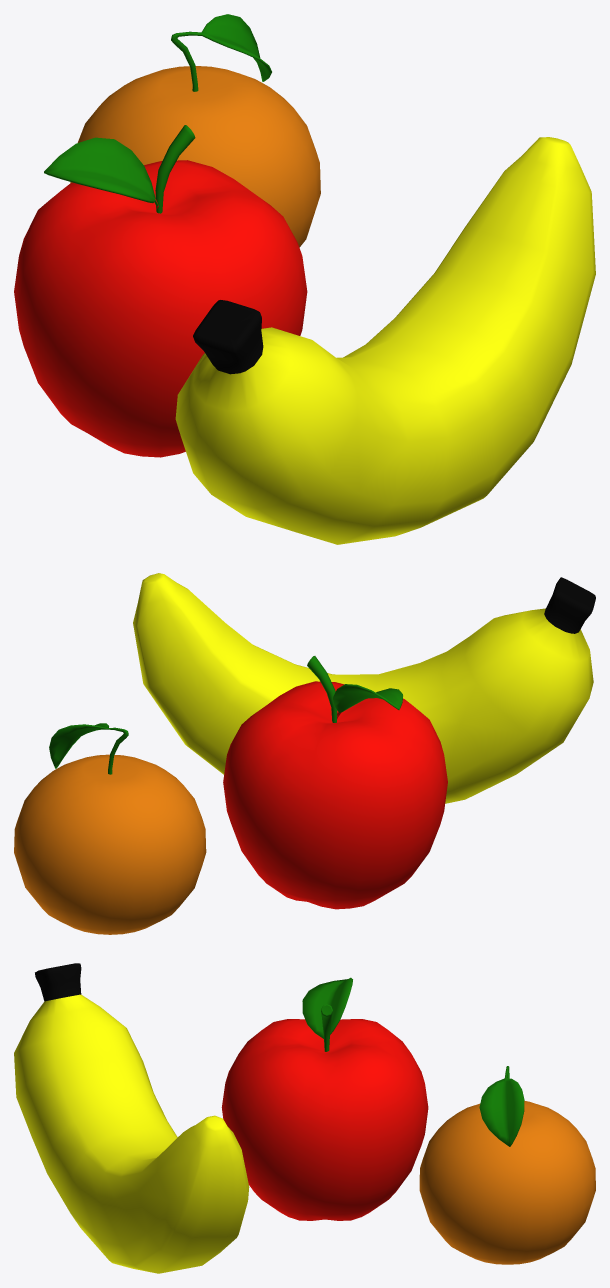
The model's file is fruits.gltf.
3 renders of one model, top to bottom at view 1: azimuth 30°, elevation 25°; view 2: azimuth 150°, elevation 25°; view 3: azimuth 270°, elevation 25°, orthographic. The views are drawn at different scales.
Visible parts, largest first — view 1: Banana, Apple, Orange; view 2: Banana, Apple, Orange; view 3: Banana, Apple, Orange.
Part boxes in pixels (<box>): Banana: <box>175,137,595,544</box>; Apple: <box>14,125,307,457</box>; Orange: <box>70,14,320,247</box>; Banana: <box>133,573,595,803</box>; Apple: <box>223,656,447,909</box>; Orange: <box>14,723,206,934</box>; Banana: <box>14,963,249,1273</box>; Apple: <box>221,977,428,1220</box>; Orange: <box>419,1066,595,1264</box>.
Size of the model in its own units: 3.41 by 2.05 by 4.96.
